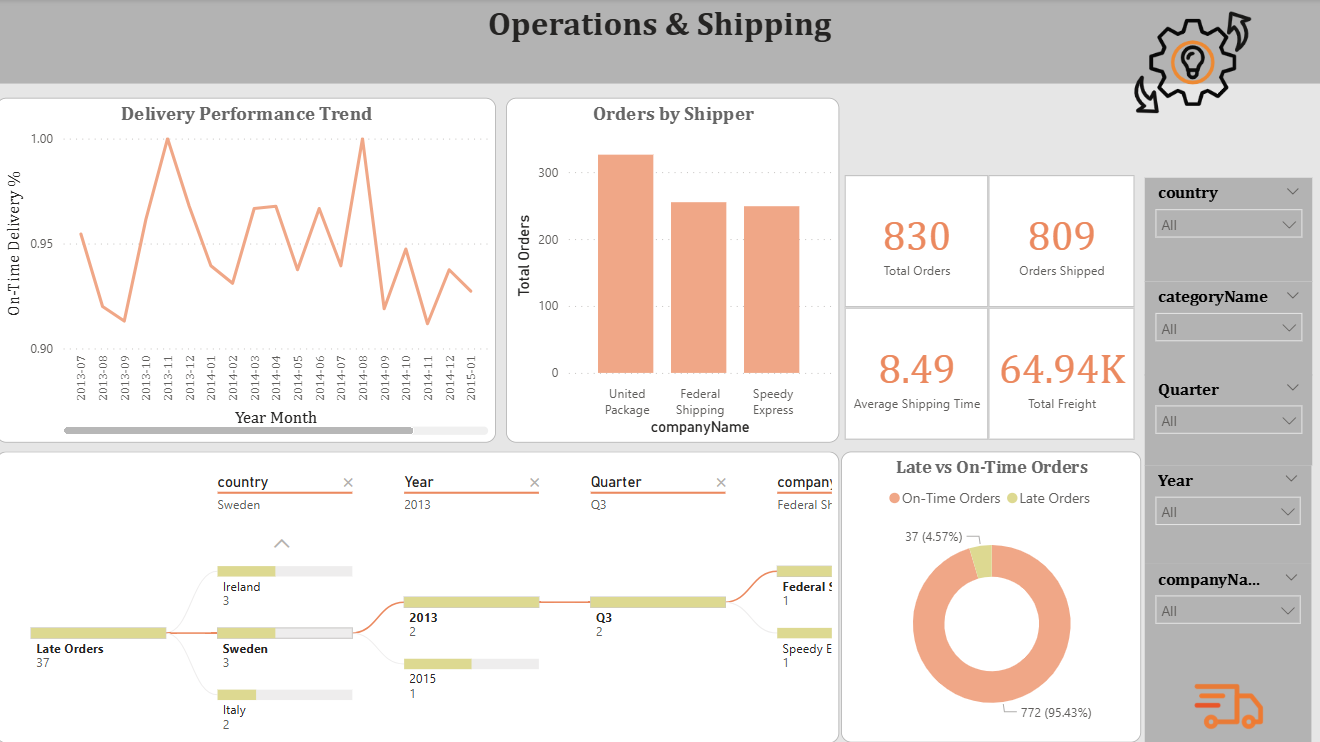

The dashboard page shown, as its layout file describes it:
{"tool":"powerbi","page":{"name":"Operations & Shipping","canvas":[1280,720],"ordinal":1},"visuals":[{"type":"lineChart","title":"Delivery Performance Trend","fields":{"Y":["_Measures.On-Time Delivery %"],"Category":["Calendar.Year Month"]},"box":[0,95.2,482,332.5],"z":0},{"type":"clusteredColumnChart","title":"Orders by Shipper","fields":{"Category":["shippers.companyName"],"Y":["_Measures.Total Orders"]},"box":[491.9,95.2,321.4,332.5],"z":1000},{"type":"decompositionTreeVisual","fields":{"Analyze":["_Measures.Late Orders"],"ExplainBy":["customers.country","Calendar.Year","Calendar.Quarter","shippers.companyName","employees.employeeName"]},"box":[0,436.3,813.3,281.8],"z":2000},{"type":"donutChart","title":"Late vs On-Time Orders","fields":{"Y":["_Measures.On-Time Orders","_Measures.Late Orders"]},"box":[815.8,436.3,289.2,280.6],"z":3000},{"type":"card","fields":{"Values":["_Measures.Orders Shipped"]},"box":[958.2,170.3,140.9,127.3],"z":4000},{"type":"card","fields":{"Values":["_Measures.Average Shipping Time"]},"box":[818.5,297.6,138.4,127.3],"z":5000},{"type":"card","fields":{"Values":["_Measures.Total Orders"]},"box":[818.5,170.3,138.4,127.3],"z":6000},{"type":"card","fields":{"Values":["_Measures.Total Freight"]},"box":[958.2,297.6,140.9,127.3],"z":7000},{"type":"slicer","fields":{"Values":["customers.country"]},"box":[1108.7,172.1,161.9,100.1],"z":8000},{"type":"slicer","fields":{"Values":["Calendar.Quarter"]},"box":[1108.7,362.1,161.9,87.8],"z":9000},{"type":"slicer","fields":{"Values":["categories.categoryName"]},"box":[1108.7,272.2,161.9,90.2],"z":10000},{"type":"slicer","fields":{"Values":["Calendar.Year"]},"box":[1108.7,449.9,160.7,95.2],"z":11000},{"type":"slicer","fields":{"Values":["shippers.companyName"]},"box":[1108.7,545.1,160.7,171.8],"z":12000},{"type":"textbox","box":[0,0,1280.5,81.6],"z":13000},{"type":"image","box":[1028.4,0,252.1,122.4],"z":14000},{"type":"image","box":[1147,637.8,86.5,82.8],"z":15000}]}

Visuals, with their boxes in screenshot pixels (x1, y1, x2, y2), scaled from the page's 1280x720 canvas onto the 1320x742 screenshot:
"Delivery Performance Trend" lineChart: BBox(0, 98, 497, 441)
"Orders by Shipper" clusteredColumnChart: BBox(507, 98, 839, 441)
decompositionTreeVisual - _Measures.Late Orders x customers.country: BBox(0, 450, 839, 740)
"Late vs On-Time Orders" donutChart: BBox(841, 450, 1140, 739)
card - _Measures.Orders Shipped: BBox(988, 176, 1133, 307)
card - _Measures.Average Shipping Time: BBox(844, 307, 987, 438)
card - _Measures.Total Orders: BBox(844, 176, 987, 307)
card - _Measures.Total Freight: BBox(988, 307, 1133, 438)
slicer - customers.country: BBox(1143, 177, 1310, 281)
slicer - Calendar.Quarter: BBox(1143, 373, 1310, 464)
slicer - categories.categoryName: BBox(1143, 281, 1310, 373)
slicer - Calendar.Year: BBox(1143, 464, 1309, 562)
slicer - shippers.companyName: BBox(1143, 562, 1309, 739)
textbox: BBox(0, 0, 1319, 84)
image: BBox(1061, 0, 1319, 126)
image: BBox(1183, 657, 1272, 741)
